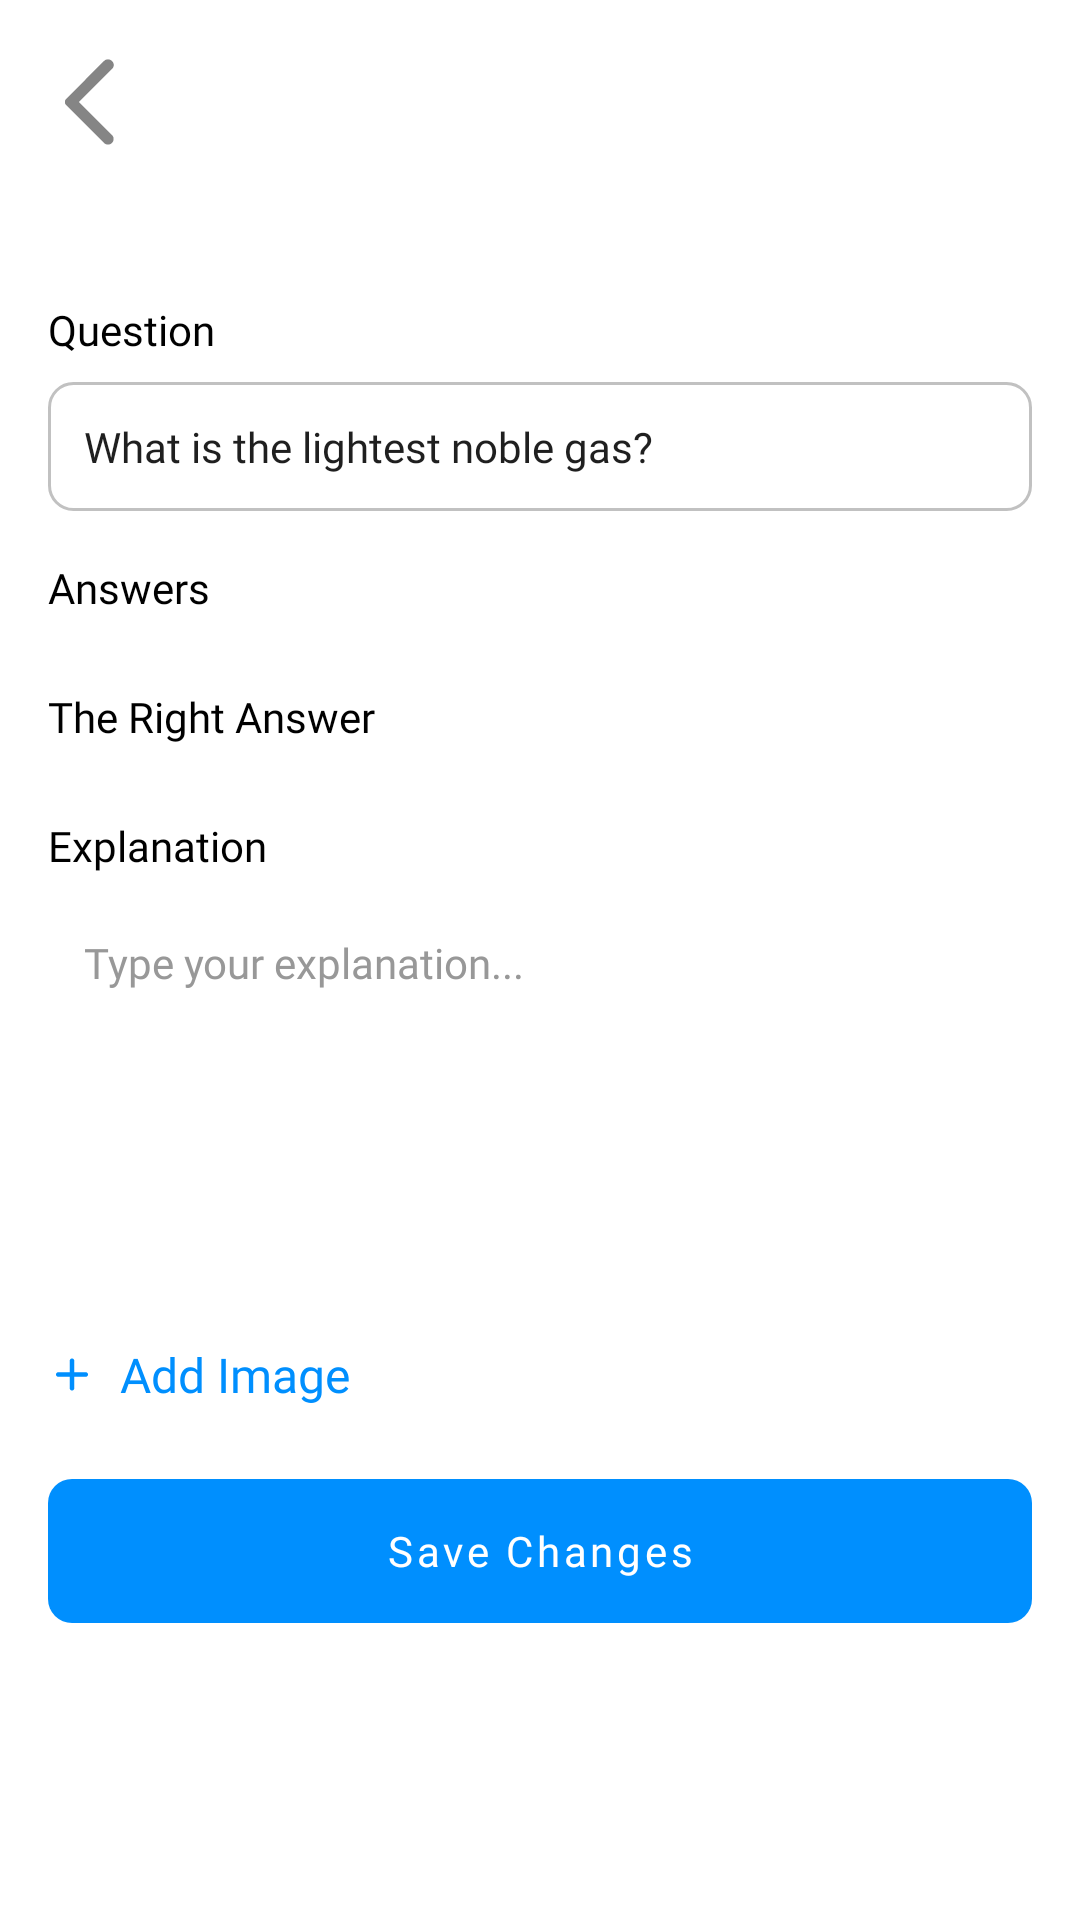

Screen size 1080px x 1920px. Icon name, then its center in pixels as (x,y):
back: (89,102)
